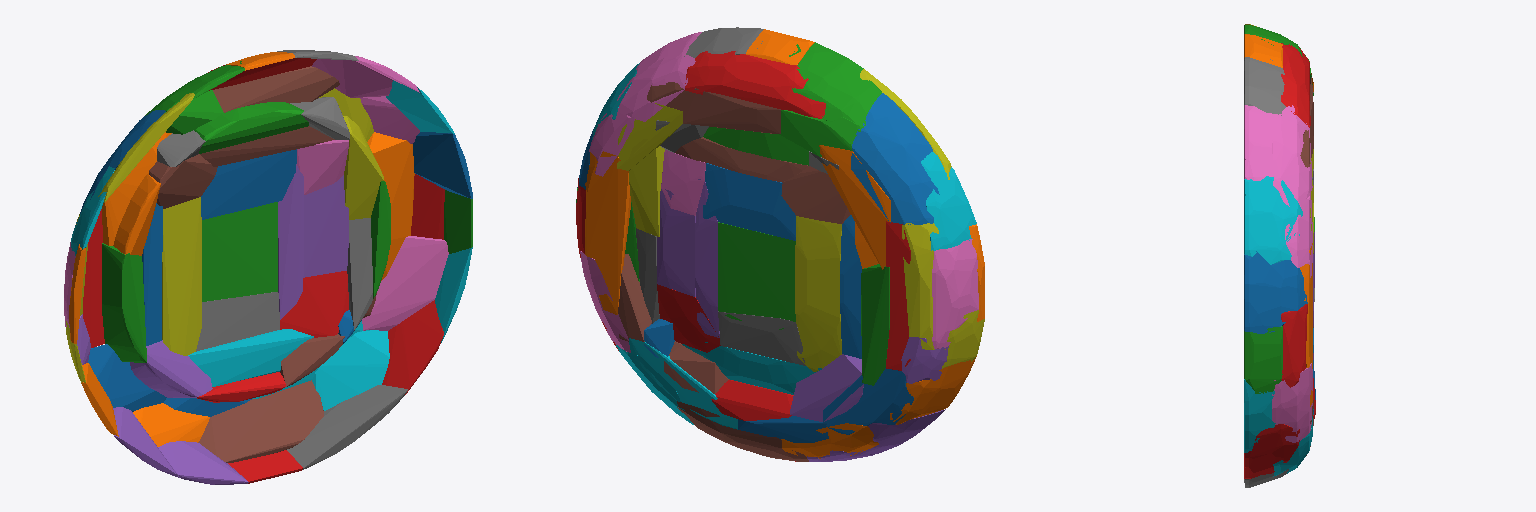
The model's file is Ceiling_Light_01_cvx.obj.
3 views of the same model, side by side, from view 1: azimuth 30°, elevation 25°; view 2: azimuth 150°, elevation 25°; view 3: azimuth 270°, elevation 25° (orthographic).
Visible parts, largest first — view 1: scenes/apartment_0000_coacd/output/Unknown/Ceiling_Kitchen_Light; view 2: scenes/apartment_0000_coacd/output/Unknown/Ceiling_Kitchen_Light; view 3: scenes/apartment_0000_coacd/output/Unknown/Ceiling_Kitchen_Light.
Boxes of the visible parts, <box> form: scenes/apartment_0000_coacd/output/Unknown/Ceiling_Kitchen_Light: <box>64,50,472,484</box>; scenes/apartment_0000_coacd/output/Unknown/Ceiling_Kitchen_Light: <box>576,27,984,461</box>; scenes/apartment_0000_coacd/output/Unknown/Ceiling_Kitchen_Light: <box>1244,24,1315,487</box>.
Size of the model in its own units: 0.1653 by 0.1653 by 0.0262.